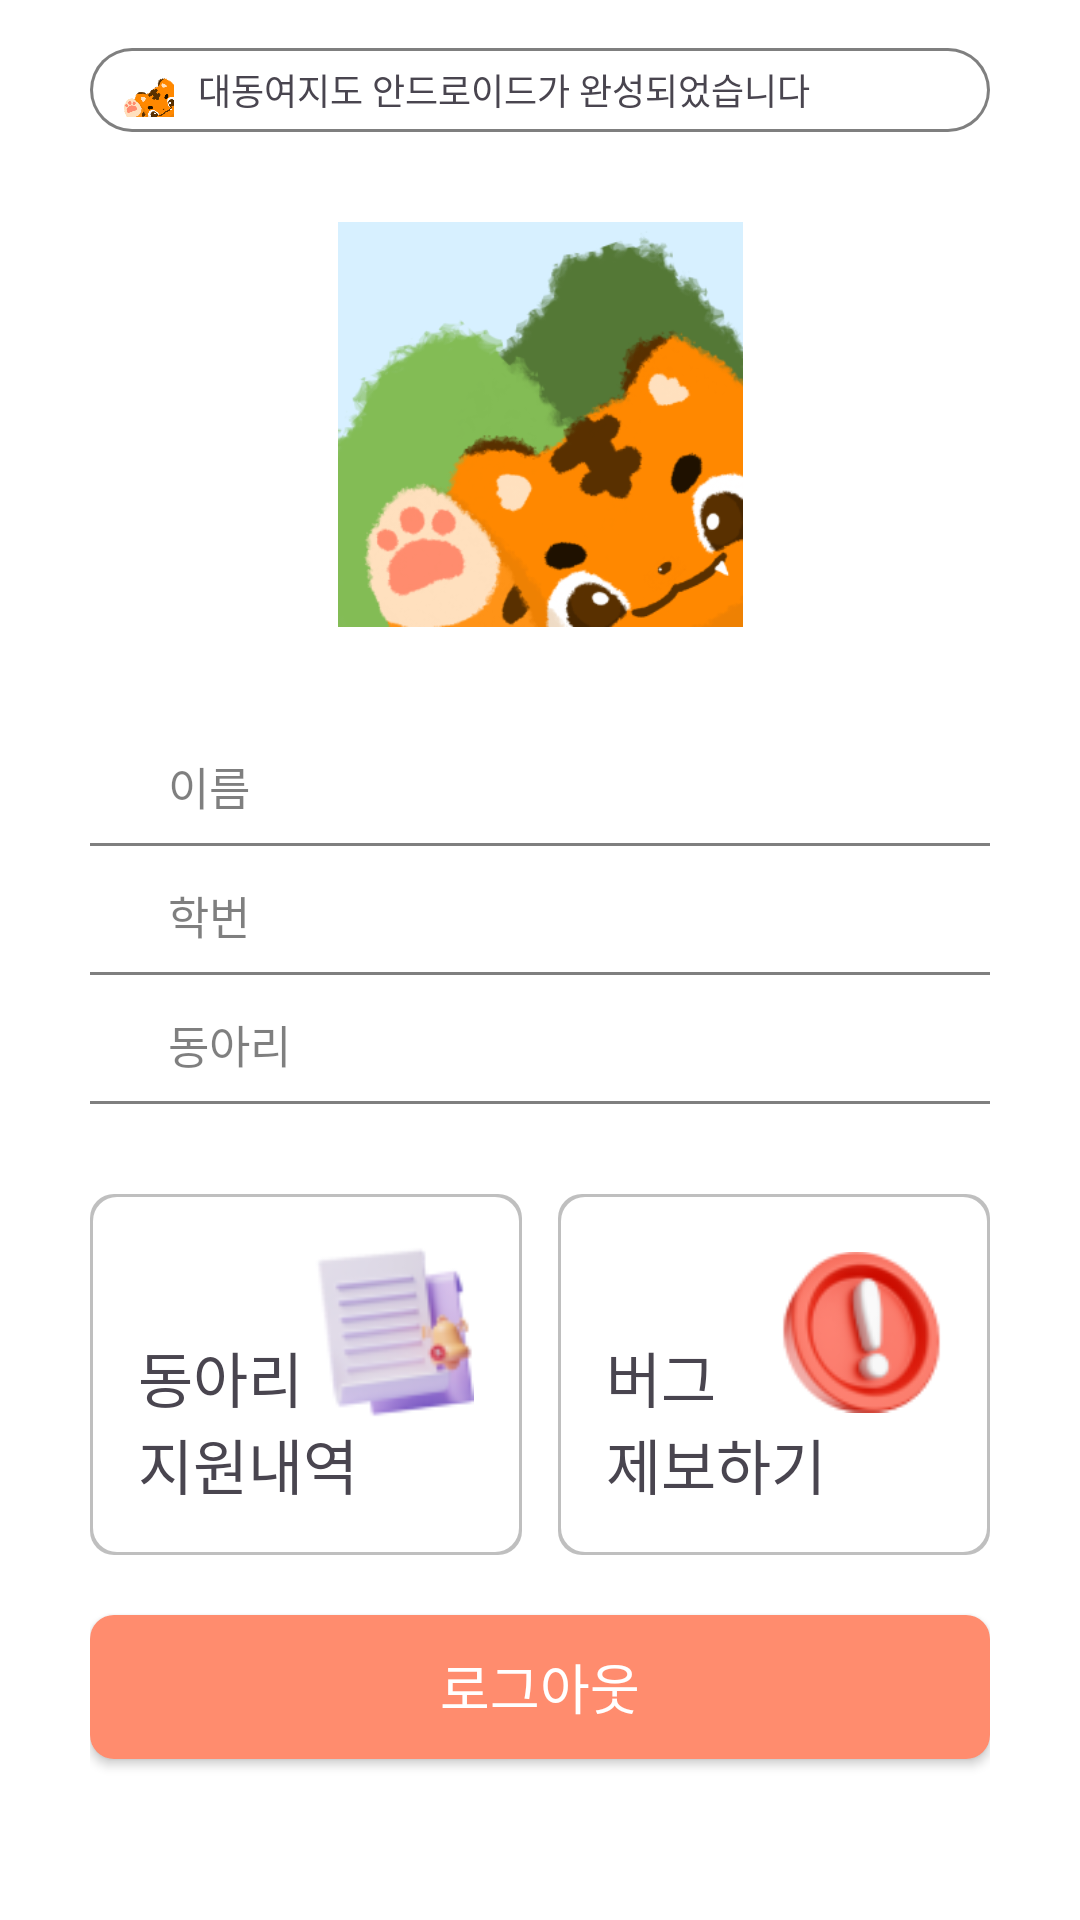

Icons on this 1080 × 1920 Android screen, each with its box as (x1, y1, x2, y2):
mypage bug: (783, 1252, 940, 1413)
mypage club history: (320, 1251, 474, 1416)
